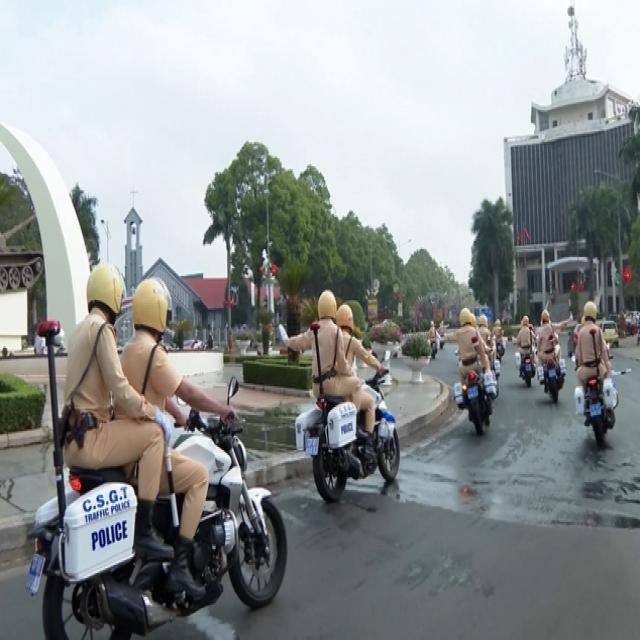helmet: (130, 272, 173, 336), (86, 259, 126, 317)
